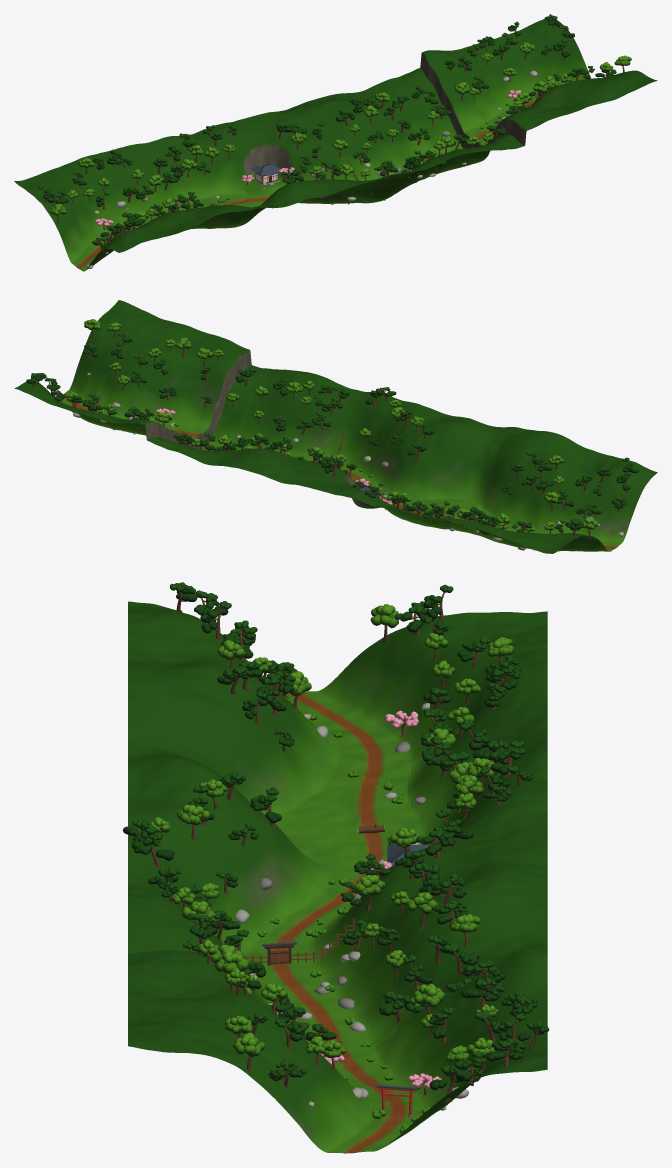
Rendered from run.glb.
3 views of the same model, one above another, from view 1: azimuth 30°, elevation 25°; view 2: azimuth 150°, elevation 25°; view 3: azimuth 270°, elevation 25° (orthographic). The views are drawn at different scales.
Visible parts, largest first — view 1: Ground; view 2: Ground; view 3: Ground.
Boxes of the visible parts, bbox=[...] form: Ground: bbox=[14, 19, 657, 271]; Ground: bbox=[14, 300, 657, 553]; Ground: bbox=[128, 601, 547, 1153].
Size of the model in its own units: 180 by 28.23 by 60.98.
